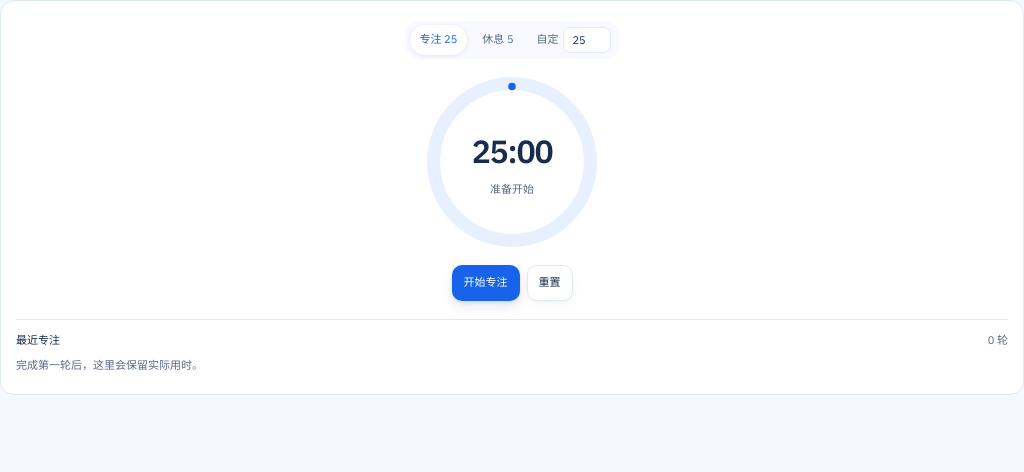
it: keeps the round running when native fullscreen exits
This screenshot has width=1024, height=472.
Click the button "开始专注": [486, 283] box x1=452 y1=265 x2=520 y2=301
Wait 2000 ms
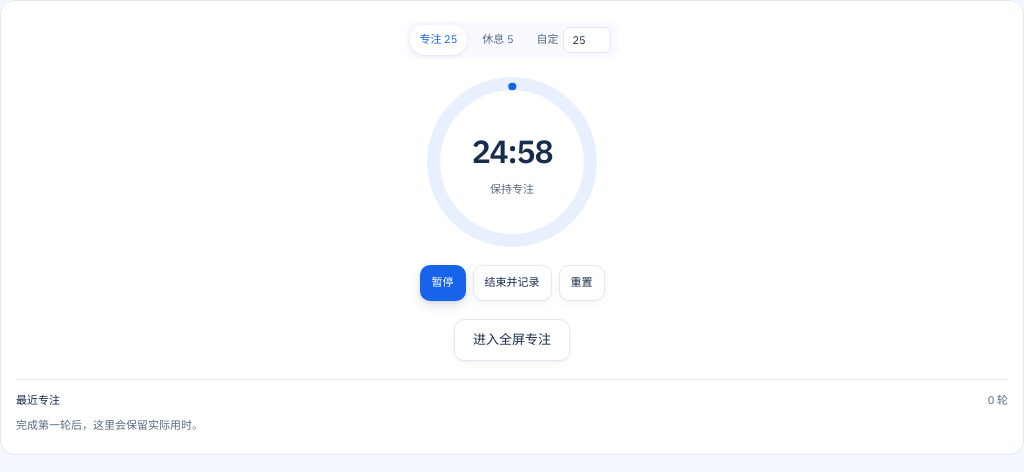
Now the text "24:58" is shown, box x1=472 y1=126 x2=552 y2=177
